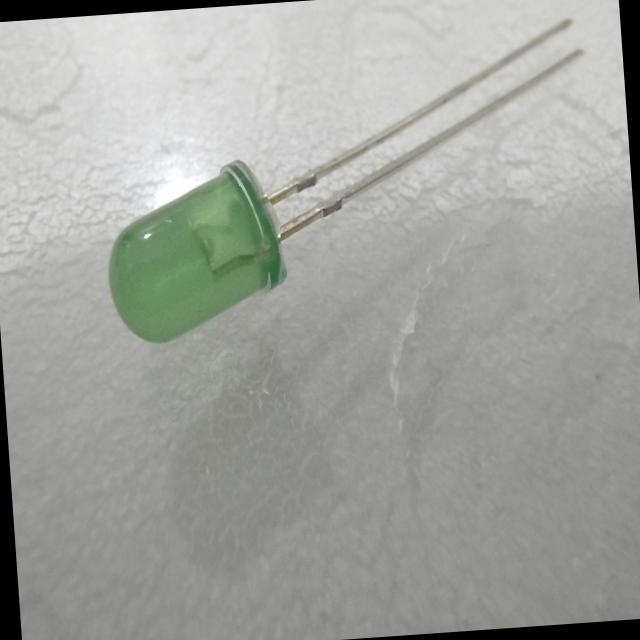green_led: (90, 143, 309, 366)
